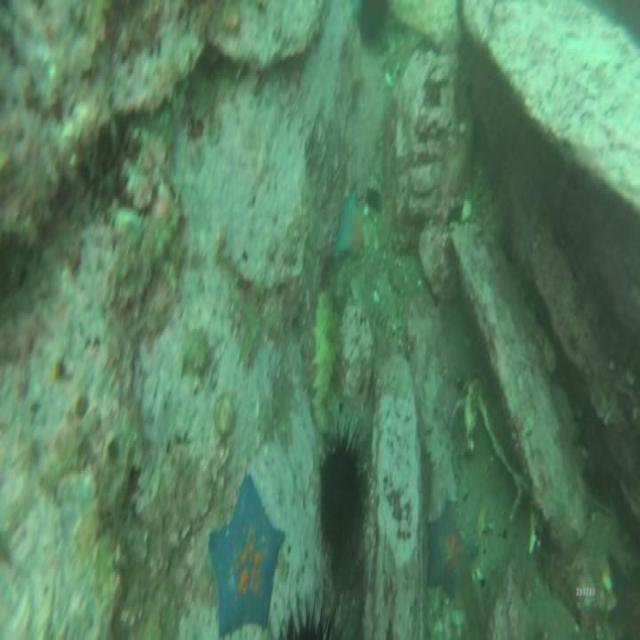echinus: (321, 441, 361, 551), (358, 0, 388, 44)
holothurian: (309, 290, 338, 408)
starfish: (207, 476, 285, 634), (429, 502, 476, 598), (339, 193, 366, 259)
